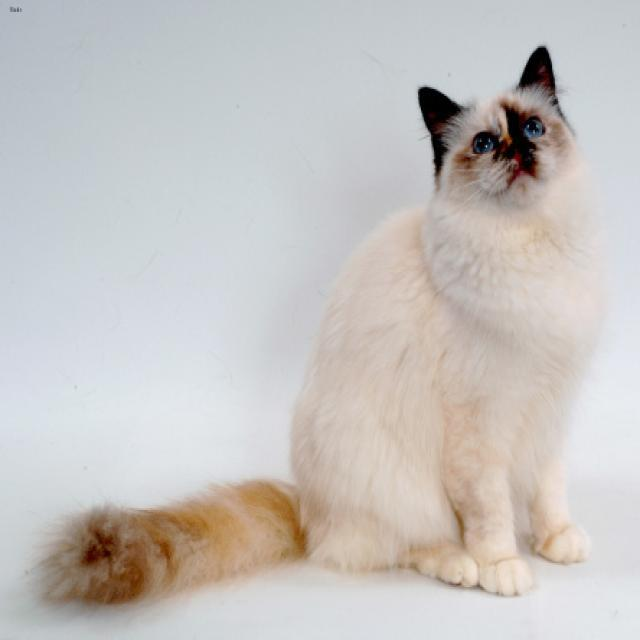Birman: (414, 40, 583, 262)
